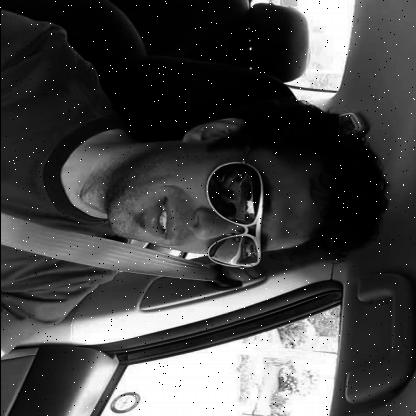seatbelt: (0, 82, 404, 278)
